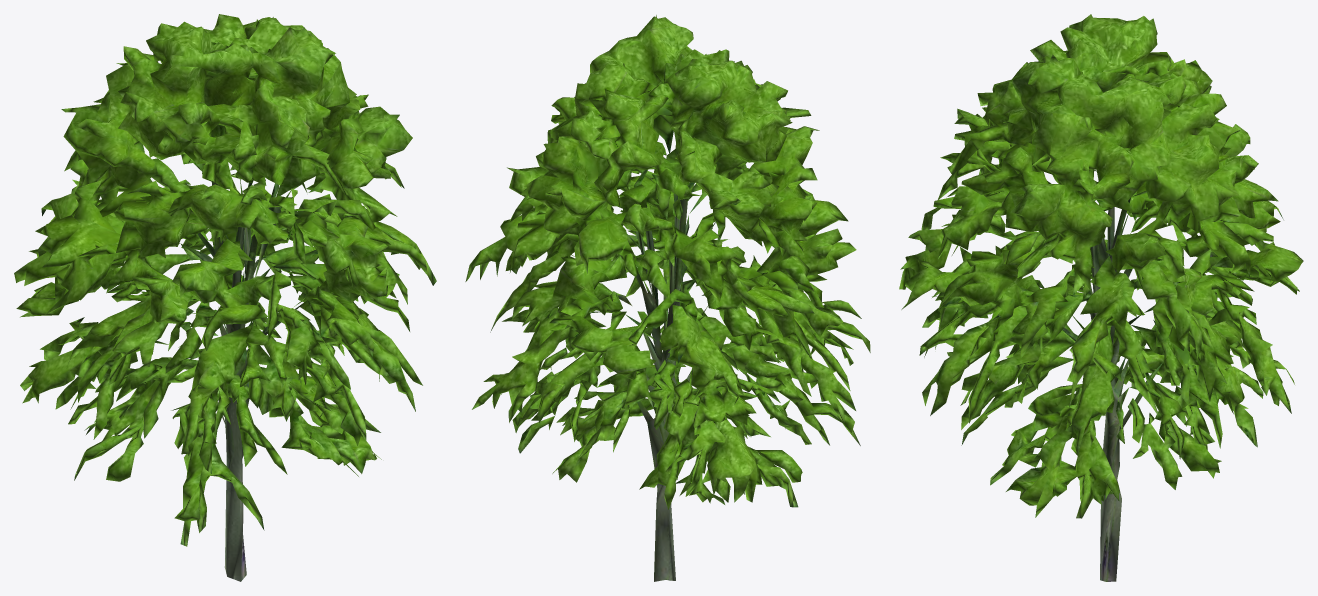
File: tree_elm.glb
The picture shows the model from 3 angles, left to right: view 1: azimuth 30°, elevation 25°; view 2: azimuth 150°, elevation 25°; view 3: azimuth 270°, elevation 25°; orthographic projection. The views are drawn at different scales.
Parts seen in each view (by area): view 1: Mesh_0; view 2: Mesh_0; view 3: Mesh_0.
Boxes of the visible parts, x1,y1,x2,y2 form: Mesh_0: (14, 14, 436, 581); Mesh_0: (465, 15, 870, 581); Mesh_0: (899, 14, 1303, 581).
Bounding box in the file's own units: 1.25 × 1.87 × 1.26.
1 material, 1 textured.
